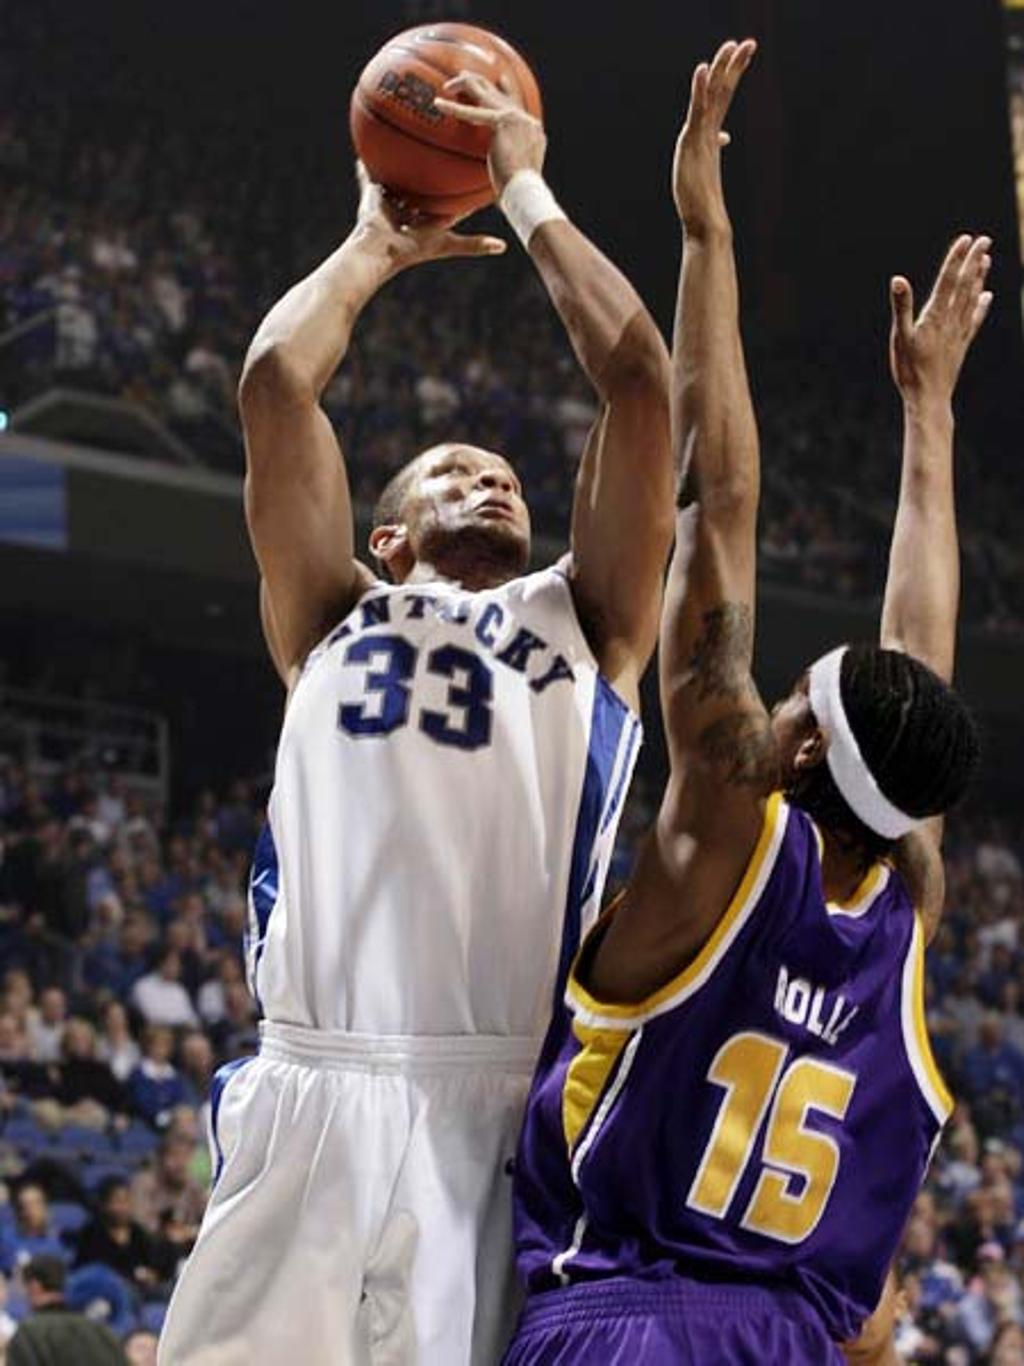face: (411, 432, 534, 557)
